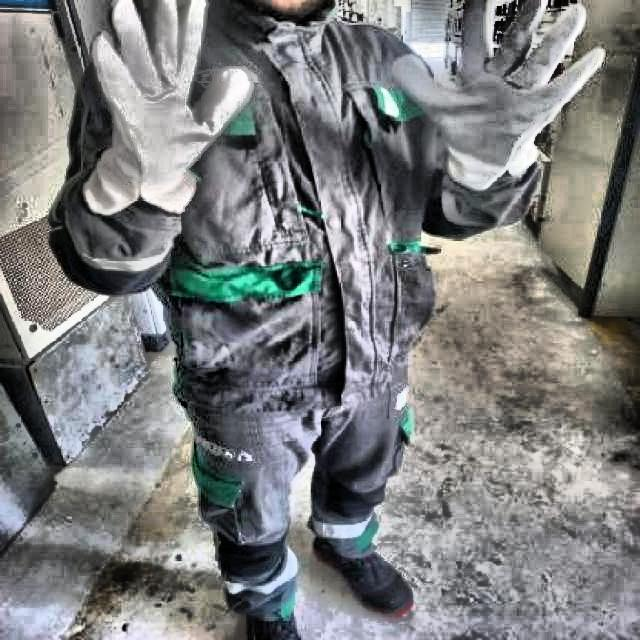gloved: (66, 0, 252, 228), (387, 0, 604, 185)
